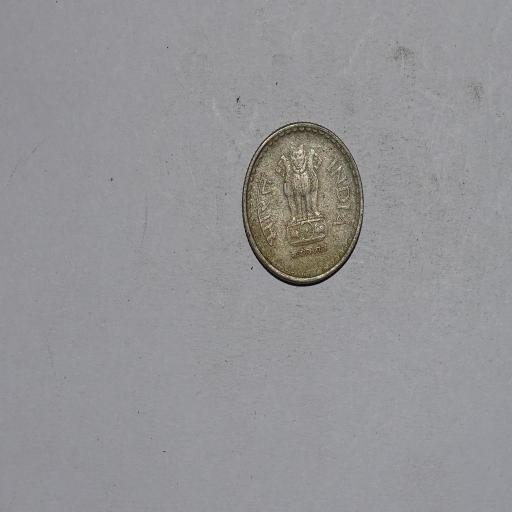rupee5: (234, 117, 364, 290)
